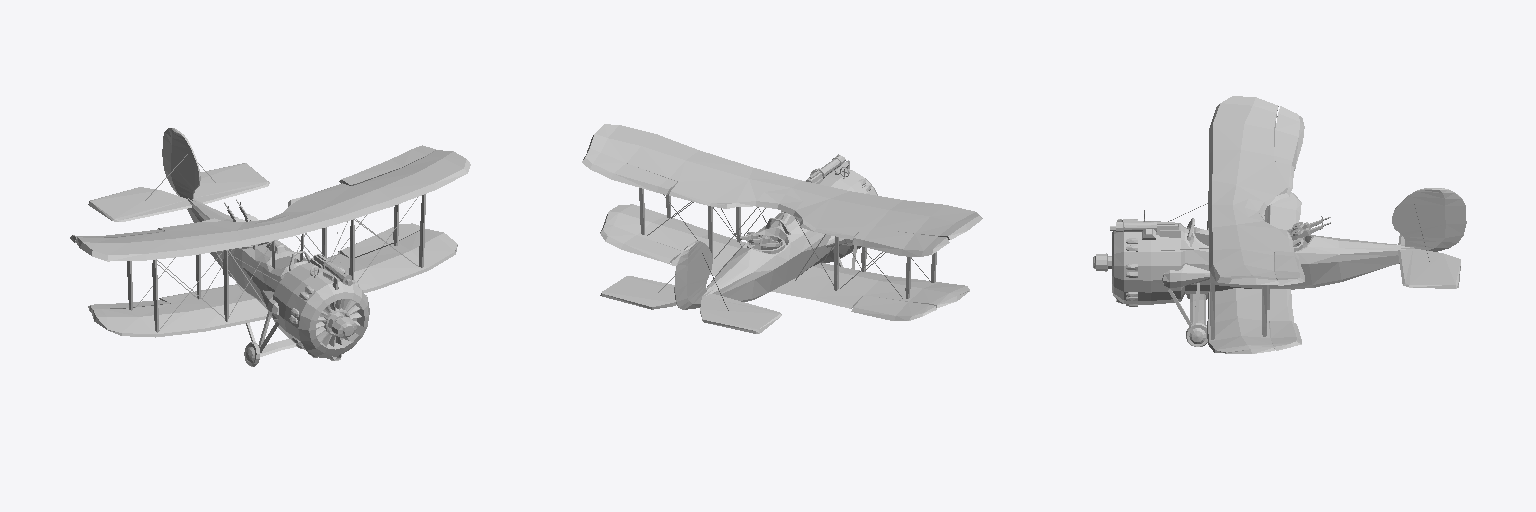
Rendered from wwPlane.obj.
3 renders of one model, left to right at view 1: azimuth 30°, elevation 25°; view 2: azimuth 150°, elevation 25°; view 3: azimuth 270°, elevation 25°, orthographic.
Parts seen in each view (by area): view 1: fanwing; view 2: fanwing; view 3: fanwing.
Boxes of the visible parts, <box> form: fanwing: <box>70,128,470,366</box>; fanwing: <box>582,124,982,333</box>; fanwing: <box>1093,96,1466,353</box>.
Bounding box in the file's own units: 10.76 × 3.73 × 9.18.